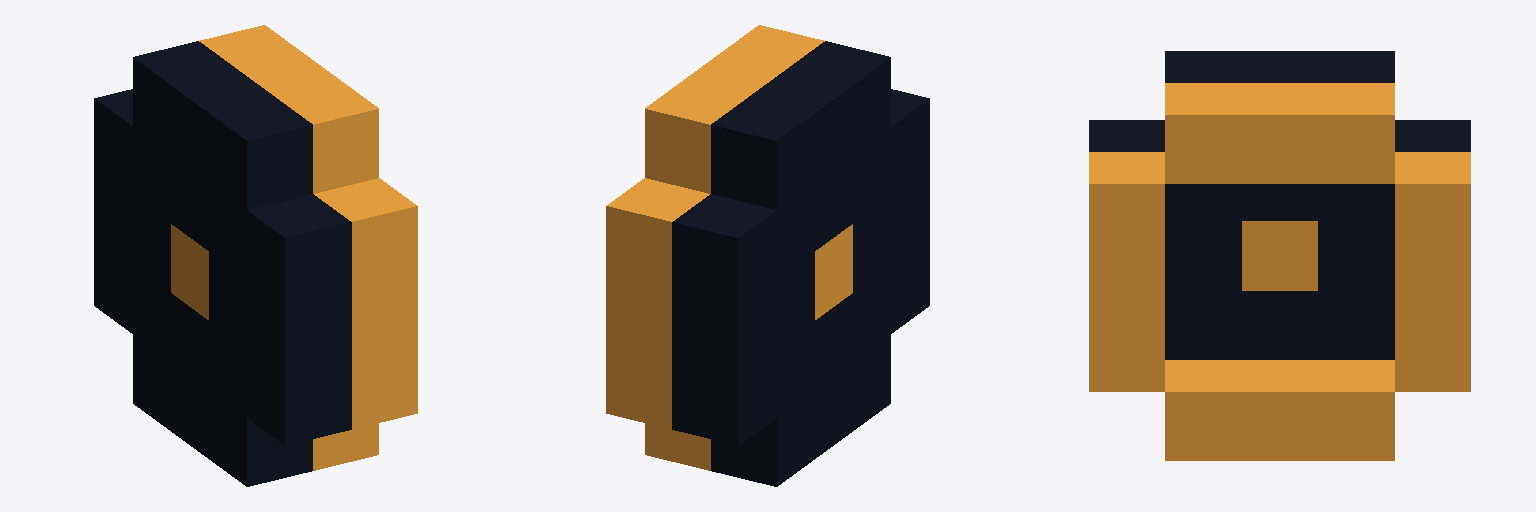
The picture shows the model from 3 angles: view 1: azimuth 30°, elevation 25°; view 2: azimuth 150°, elevation 25°; view 3: azimuth 270°, elevation 25°; orthographic projection.
Size of the model in its own units: 2 by 5 by 5.
Materials: 1 (1 with a texture image).